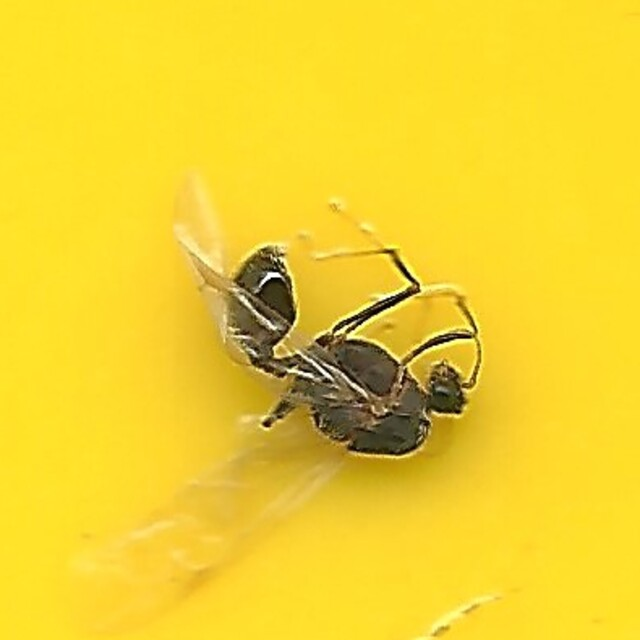Hymenoptera: (162, 170, 478, 470)
